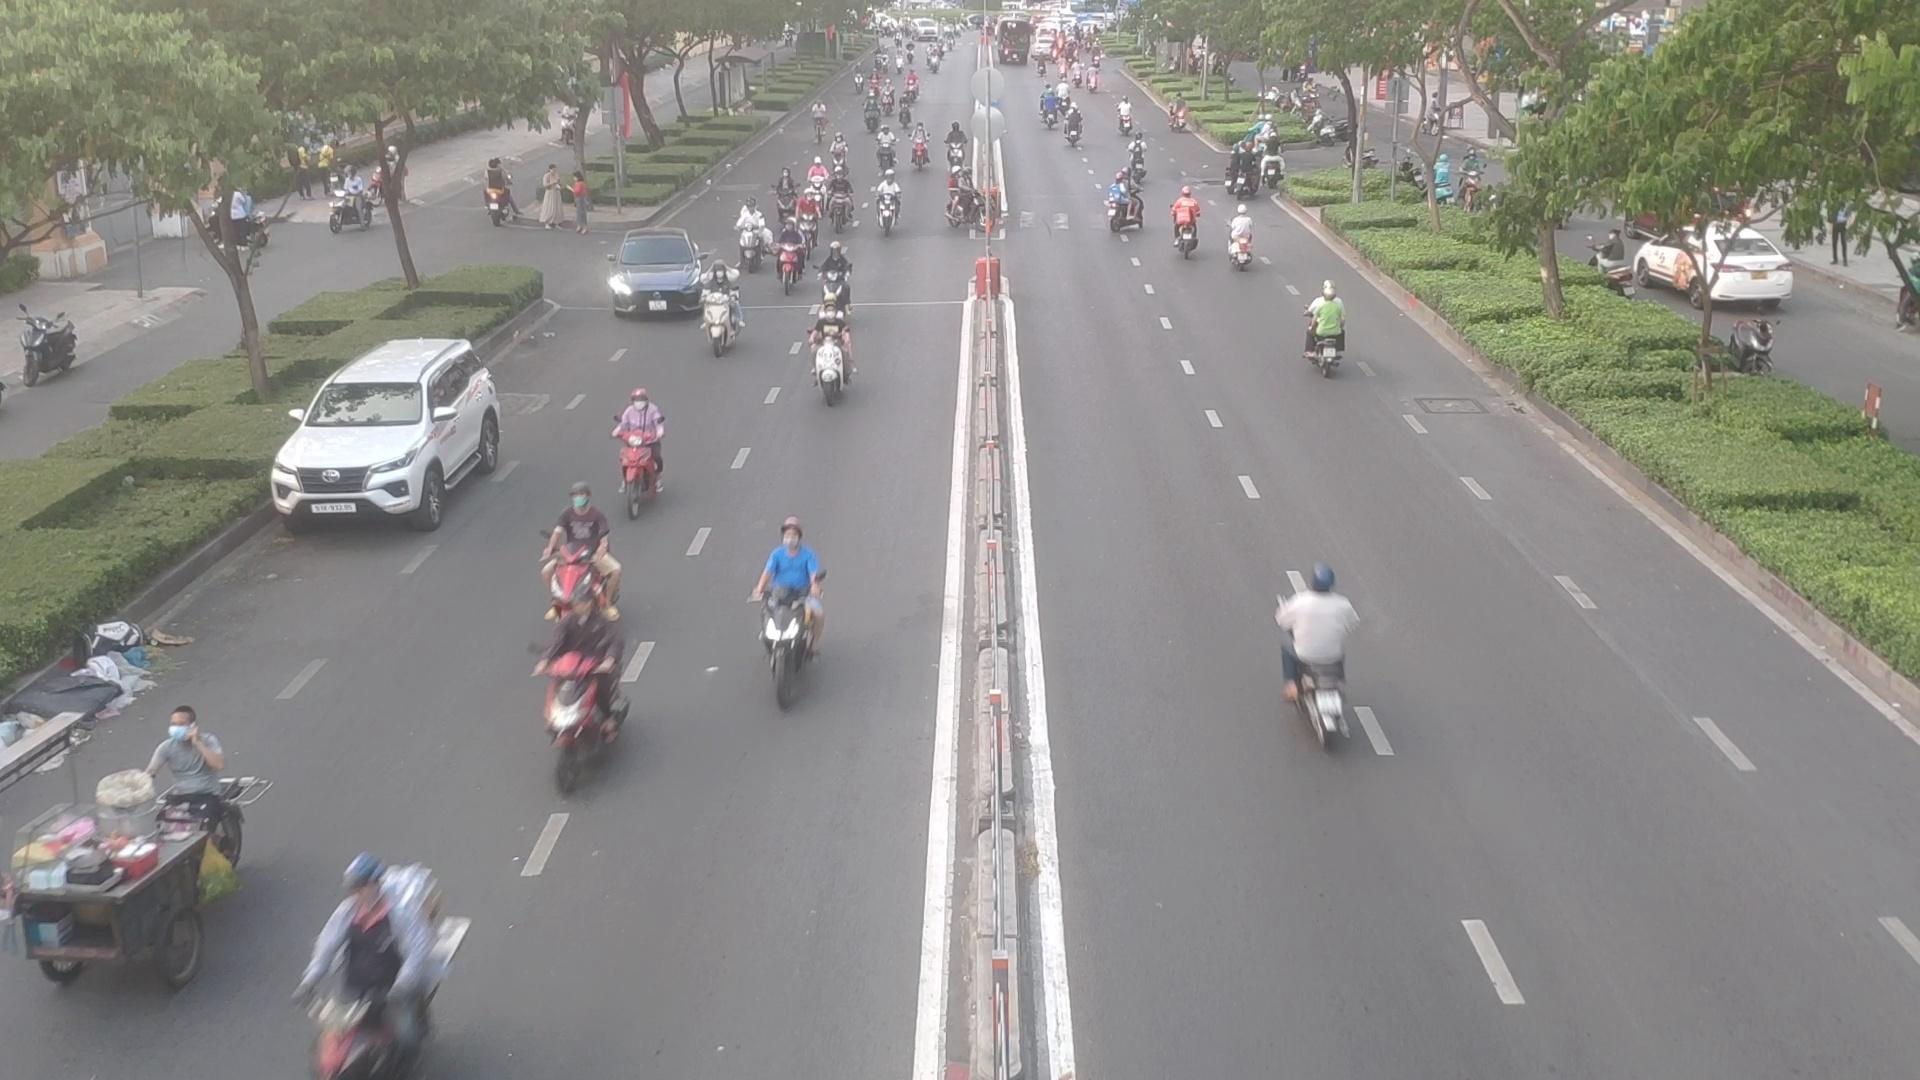car: (276, 338, 518, 531), (603, 237, 709, 320)
motorbike: (305, 851, 440, 1077), (527, 585, 645, 771), (1271, 564, 1374, 745), (753, 525, 831, 704), (146, 707, 258, 829), (605, 392, 673, 498), (800, 309, 861, 404), (1299, 287, 1360, 373), (702, 289, 752, 357), (818, 237, 860, 305), (948, 169, 992, 229), (771, 222, 808, 286), (1168, 194, 1204, 258), (1100, 182, 1142, 235), (1228, 212, 1265, 272), (870, 175, 903, 233), (735, 225, 771, 273), (767, 169, 795, 224), (828, 183, 858, 231), (804, 161, 828, 215), (945, 121, 971, 167), (796, 194, 820, 239), (910, 131, 936, 169), (1062, 109, 1087, 149), (1127, 135, 1147, 185), (873, 123, 898, 161), (829, 135, 851, 175)
